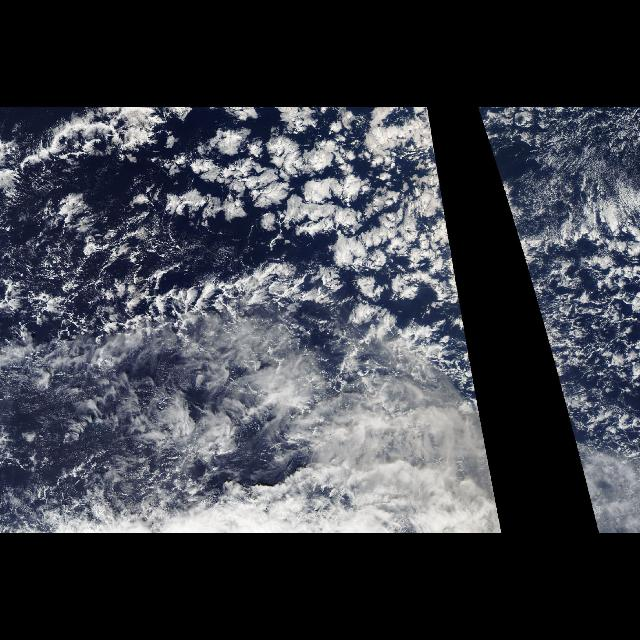Flower: (72, 110, 466, 330)
Gravel: (0, 231, 202, 335), (558, 266, 640, 446)
Sugar: (488, 111, 640, 249)
